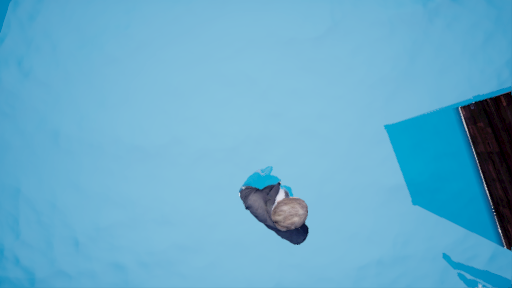person: (241, 167, 315, 251)
